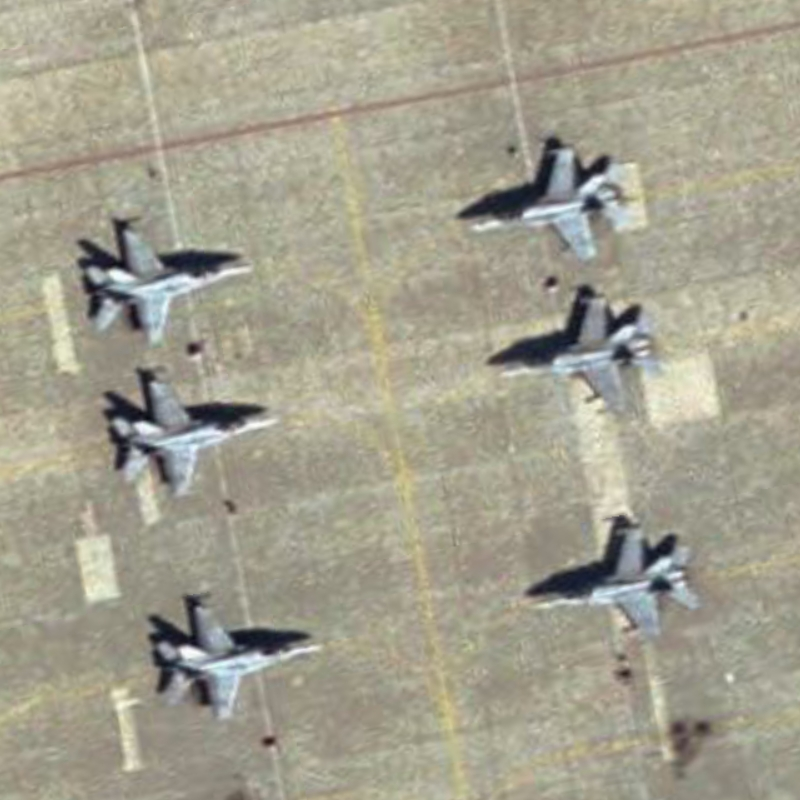A16: (97, 361, 287, 504), (139, 587, 330, 728), (486, 289, 668, 433), (71, 215, 258, 351), (512, 515, 706, 644), (461, 135, 646, 268)
